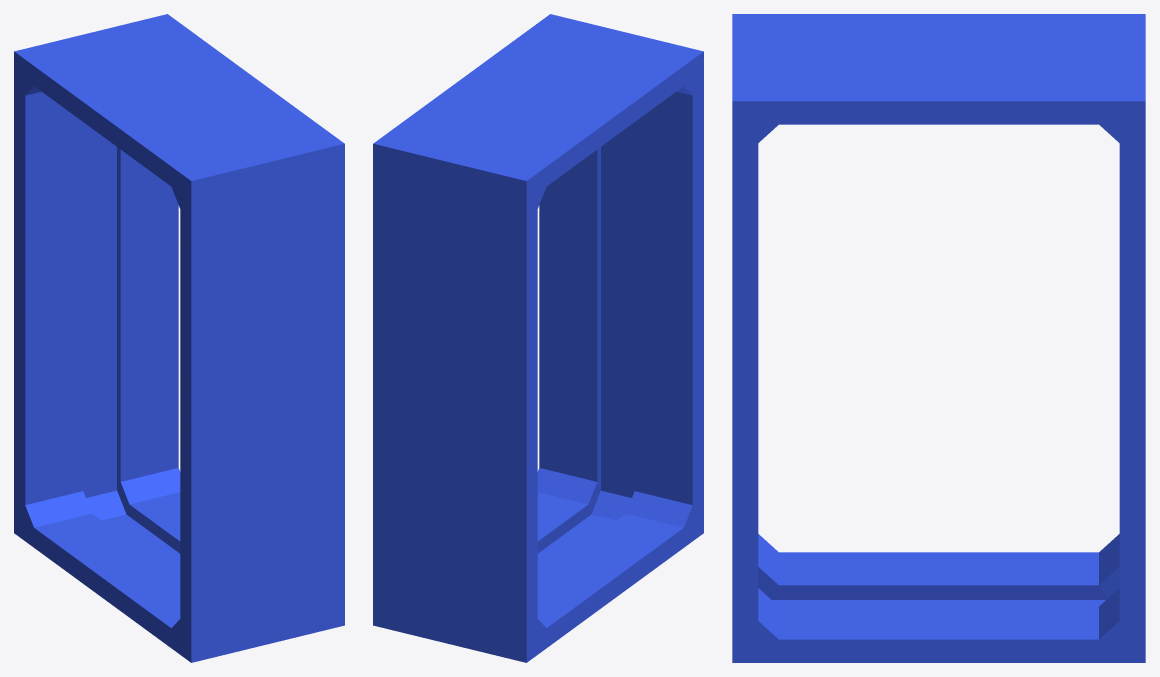
File: DoorFrame_A.fbx
3 views of the same model, side by side, from view 1: azimuth 30°, elevation 25°; view 2: azimuth 150°, elevation 25°; view 3: azimuth 270°, elevation 25° (orthographic). The views are drawn at different scales.
Visible parts, largest first — view 1: DoorFrame_A.001; view 2: DoorFrame_A.001; view 3: DoorFrame_A.001.
Boxes of the visible parts, x1,y1,x2,y2 form: DoorFrame_A.001: (14, 14, 344, 662); DoorFrame_A.001: (373, 14, 703, 662); DoorFrame_A.001: (732, 14, 1145, 662).
Bounding box in the file's own units: 1 × 3 × 2.
